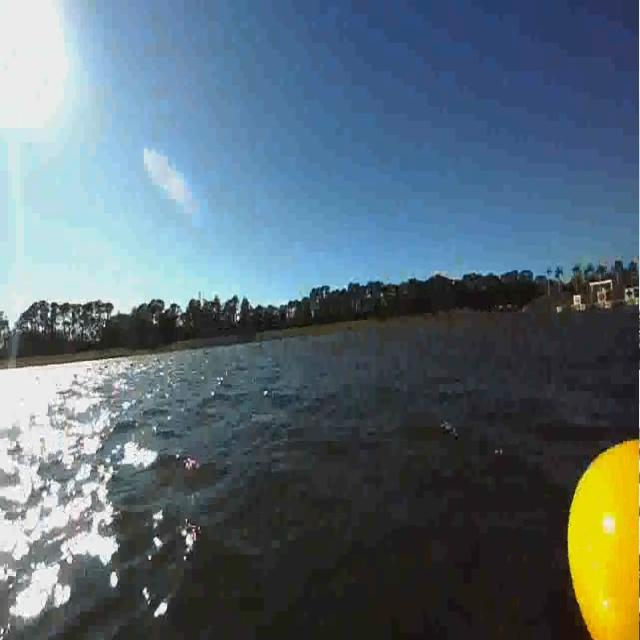yellow-buoy: (558, 428, 638, 637)
